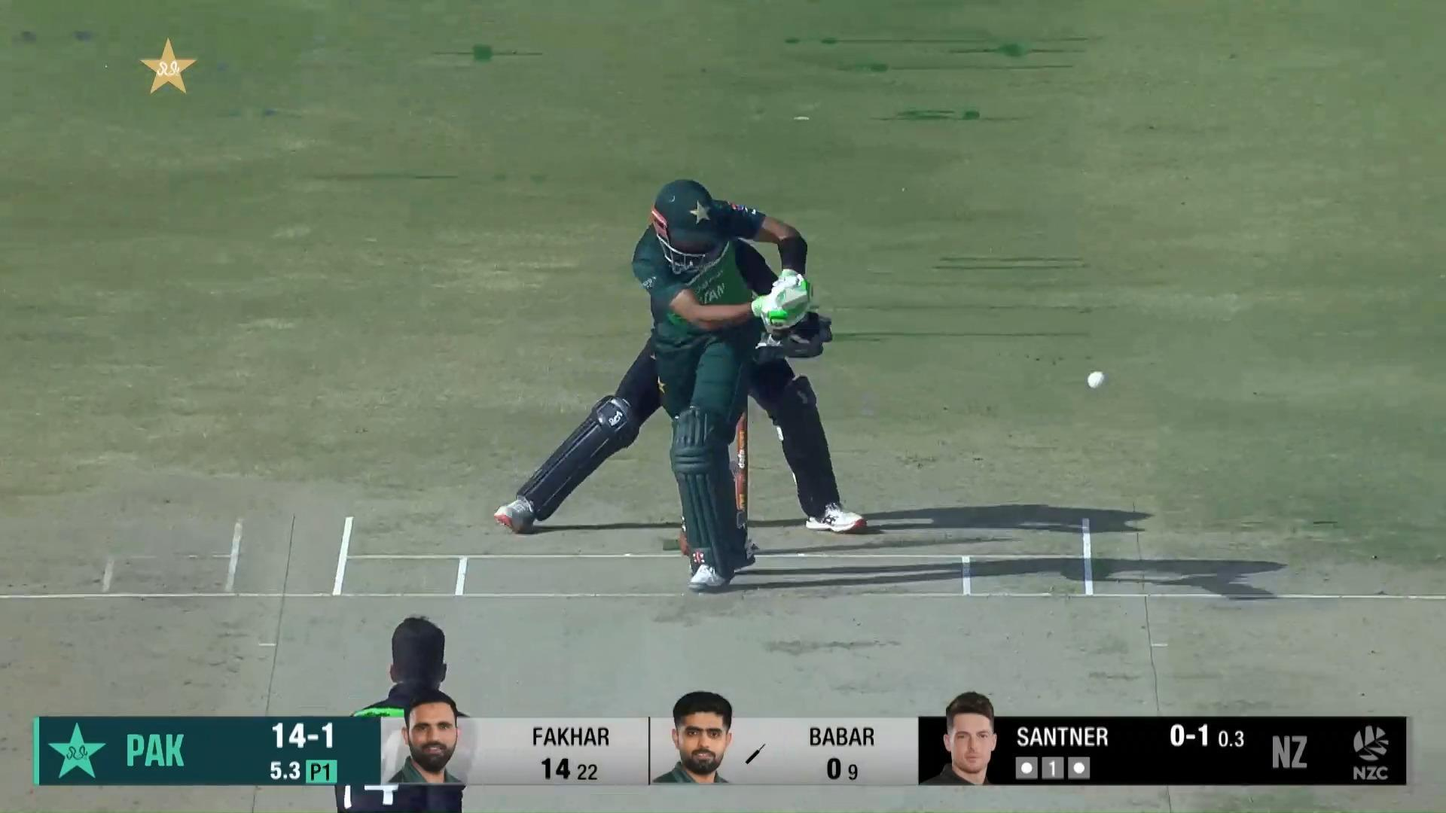BM 1: (633, 178, 815, 593)
BO: (330, 610, 480, 813)
